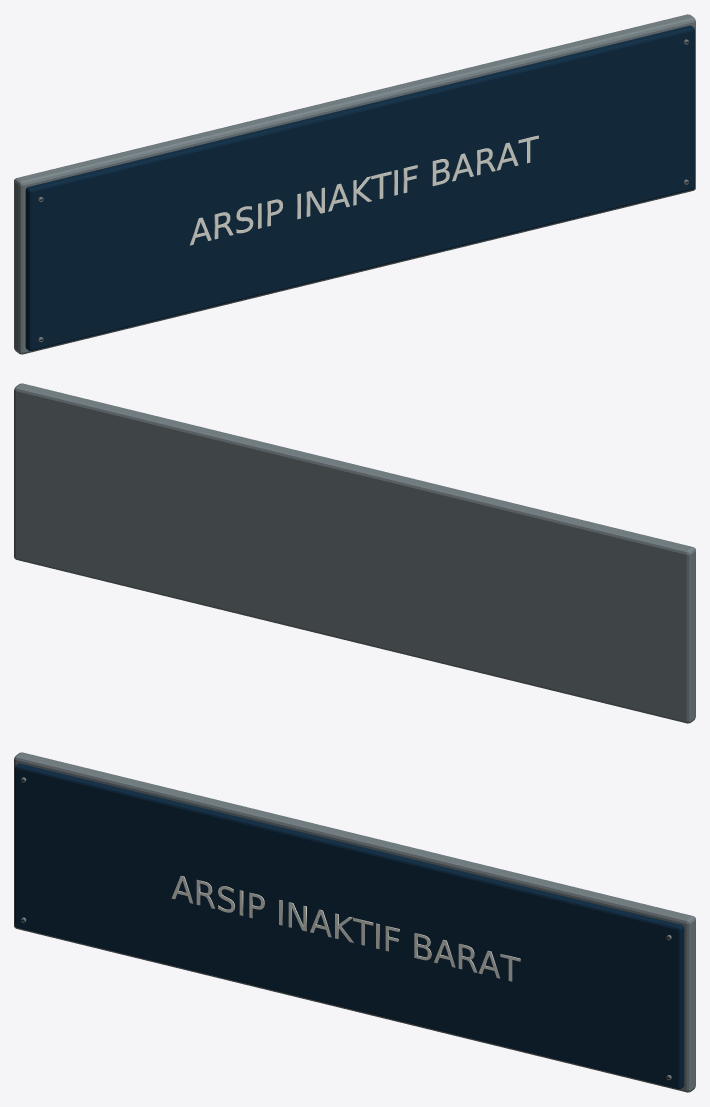
Rendered from OAA_Papan_Ruang_Arsip_Inaktif_Barat.fbx.
3 renders of one model, top to bottom at view 1: azimuth 30°, elevation 25°; view 2: azimuth 150°, elevation 25°; view 3: azimuth 330°, elevation 25°, orthographic.
Parts seen in each view (by area): view 1: Body; view 2: Body; view 3: Body.
Boxes of the visible parts, left/top/right/bottom form: Body: left=14, top=14, right=695, bottom=354; Body: left=14, top=383, right=695, bottom=723; Body: left=14, top=752, right=695, bottom=1092.
Size of the model in its own units: 0.9 by 0.22 by 0.0312.
